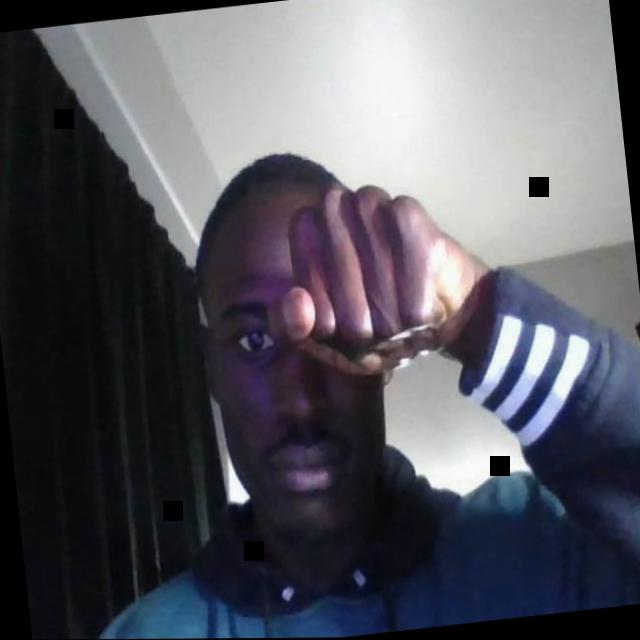NO-Mask: (206, 258, 402, 556)
